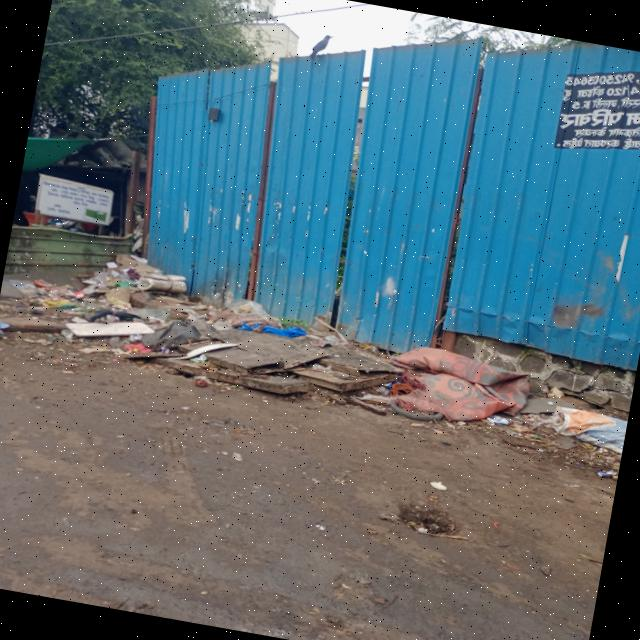garbage: (186, 294, 534, 441), (0, 234, 207, 371)
